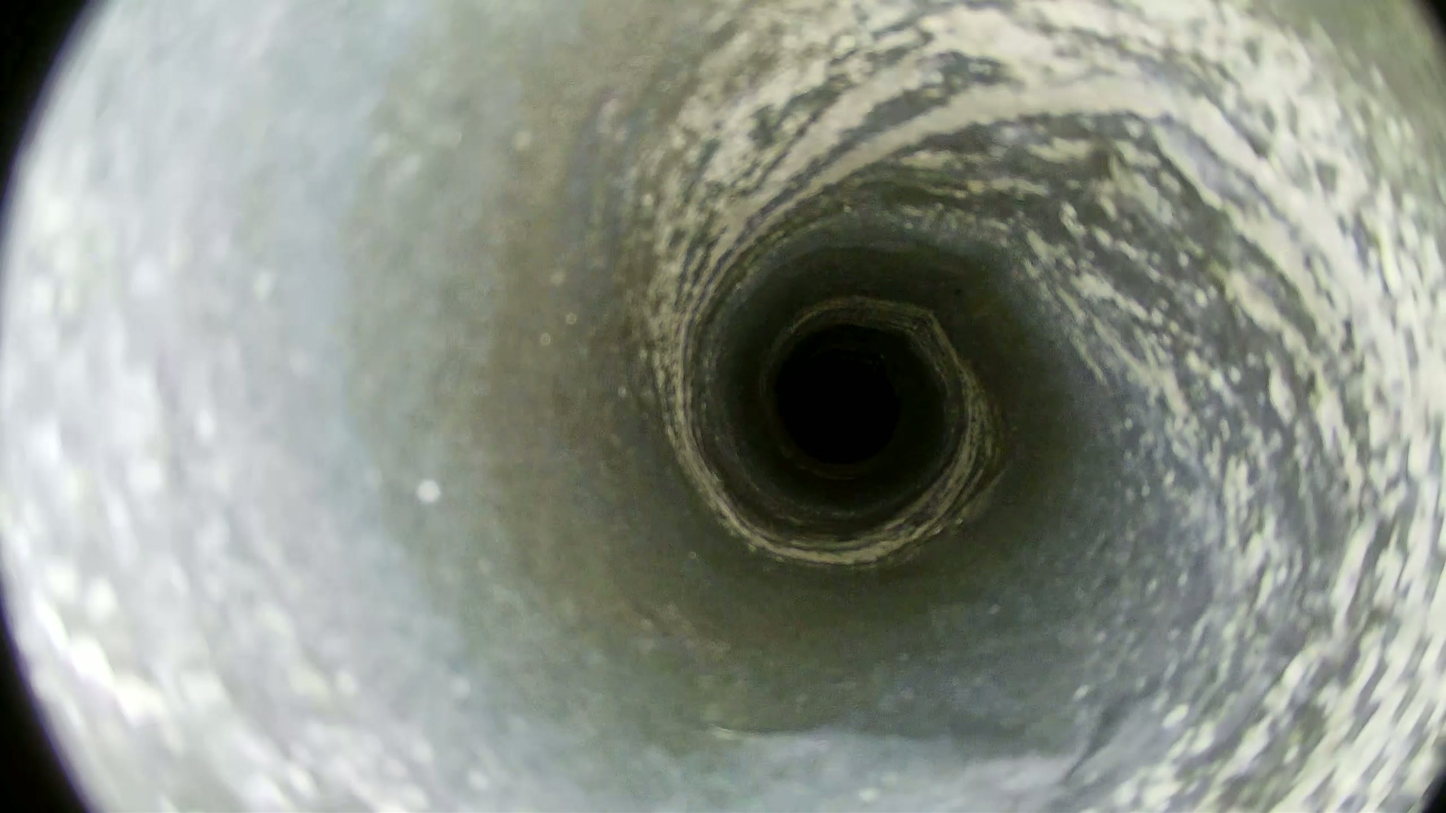hole: (782, 354, 900, 464)
